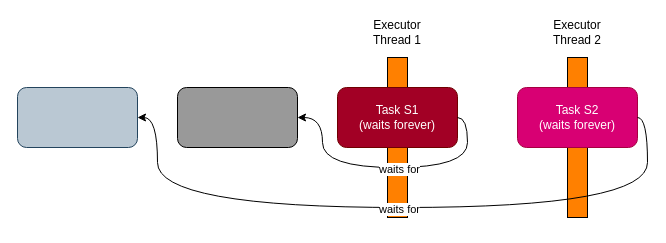
The diagram is 666 pixels wide and 243 high, and some of its shapes have lost their labels. The centre of each missing label's shape, as x and y in pixels:
Task T1 (queued forever): (237,117)
Task T2 (queued forever): (77,117)
